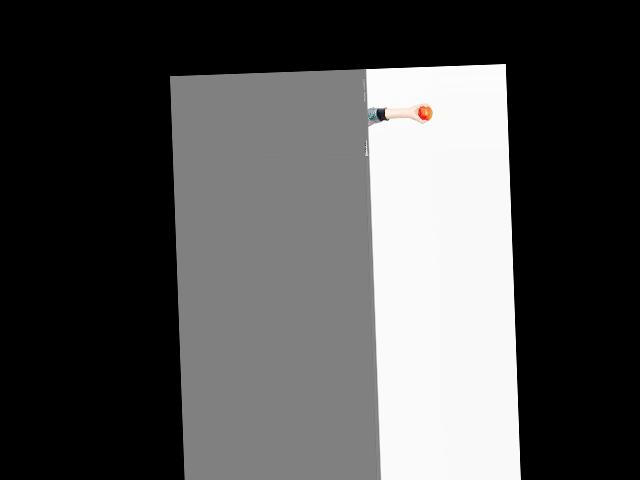tomato: (418, 105, 432, 120)
